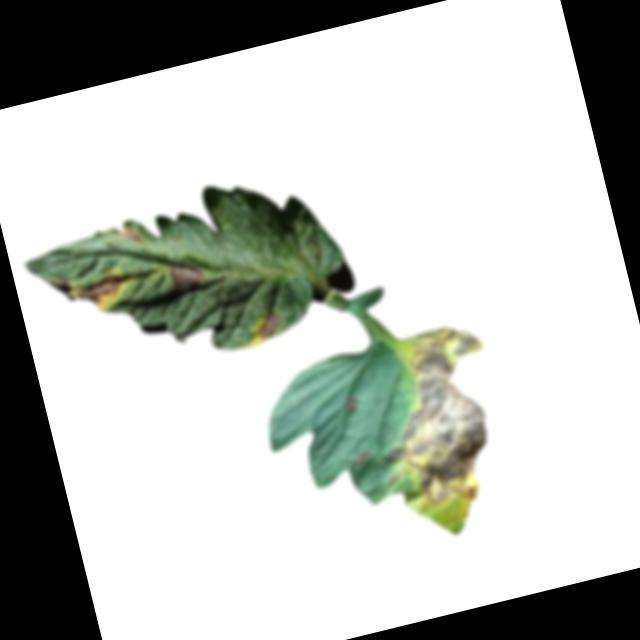Early_blight: (355, 320, 516, 514), (70, 267, 131, 315), (170, 257, 211, 293), (247, 308, 284, 342), (119, 219, 144, 248), (352, 447, 374, 468), (340, 393, 361, 415)
